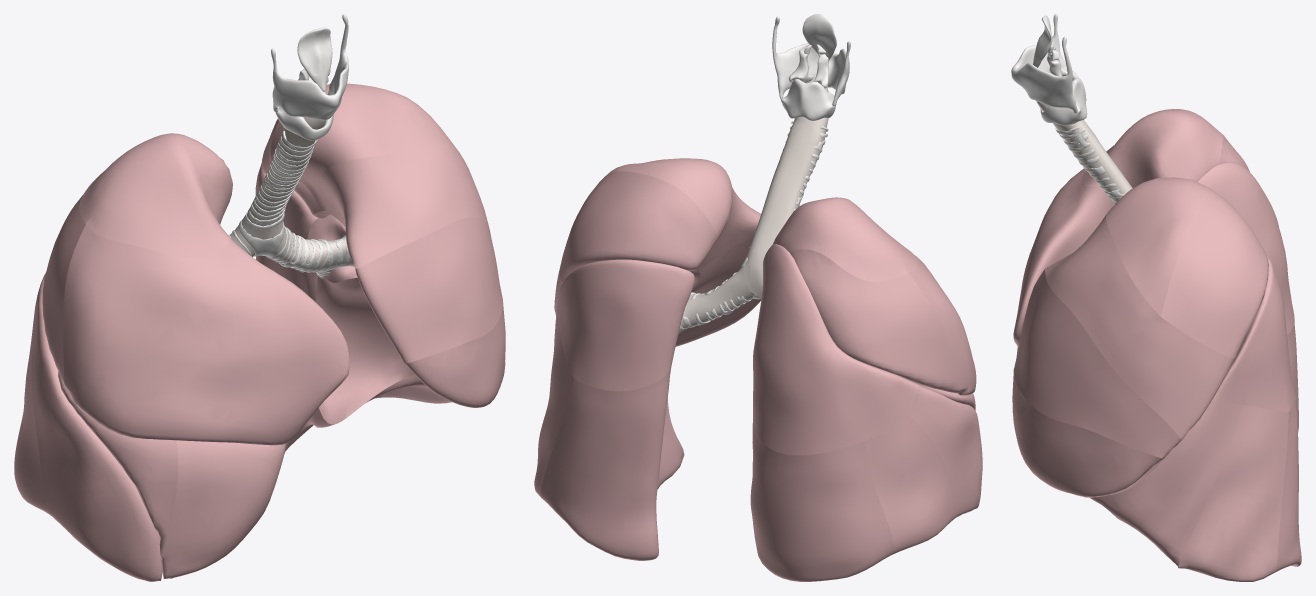
Rendered from lungs.glb.
The picture shows the model from 3 angles, left to right: view 1: azimuth 30°, elevation 25°; view 2: azimuth 150°, elevation 25°; view 3: azimuth 270°, elevation 25°; orthographic projection. The views are drawn at different scales.
Visible parts, largest first — view 1: VH_F_hilum_L, VH_F_corniculate_cartilage_L, VH_F_trachea, VH_F_lungs_left_main_bronchus; view 2: VH_F_hilum_L, VH_F_corniculate_cartilage_L, VH_F_trachea, VH_F_lungs_left_main_bronchus; view 3: VH_F_hilum_L, VH_F_corniculate_cartilage_L, VH_F_trachea.
Part boxes in pixels (x1,y1,x2,y2): VH_F_hilum_L: (14,83,505,581); VH_F_corniculate_cartilage_L: (228,14,354,278); VH_F_trachea: (235,117,326,255); VH_F_lungs_left_main_bronchus: (230,228,353,276); VH_F_hilum_L: (534,158,982,581); VH_F_corniculate_cartilage_L: (679,14,850,333); VH_F_trachea: (743,87,828,298); VH_F_lungs_left_main_bronchus: (680,267,753,328); VH_F_hilum_L: (1012,109,1301,581); VH_F_corniculate_cartilage_L: (1011,14,1124,204); VH_F_trachea: (1036,101,1132,202).
Size of the model in its own units: 0.2511 by 0.2968 by 0.1531.
